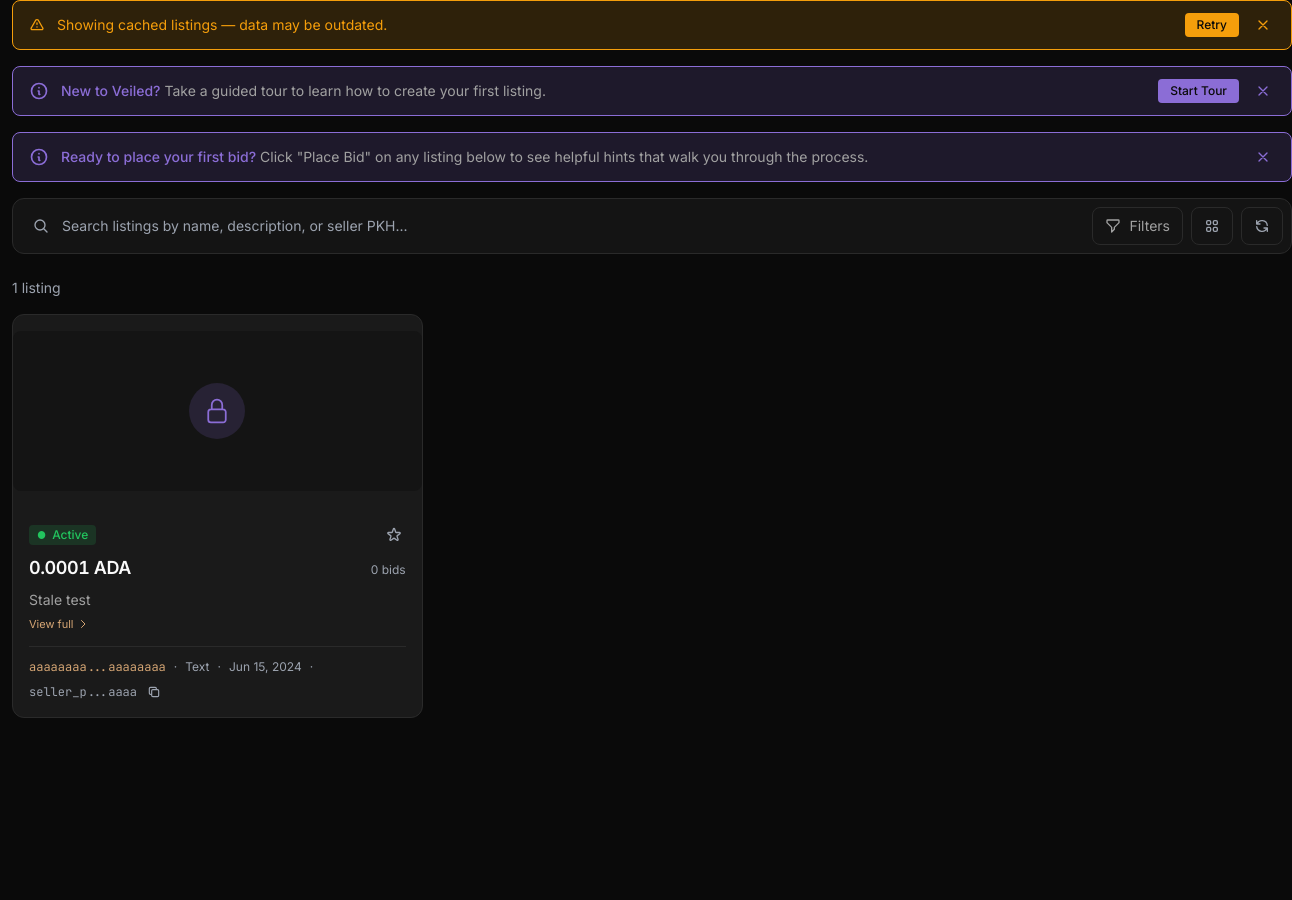
Test: MarketplaceTab › dismisses stale banner when dismiss button is clicked
This screenshot has width=1292, height=900.
Expected: the text "Showing cached listings — data may be outdated." is shown, left=57, top=15, right=387, bottom=35
Click the button named "Dismiss stale data warning". click: (1263, 25)
box: left=1251, top=13, right=1275, bottom=37
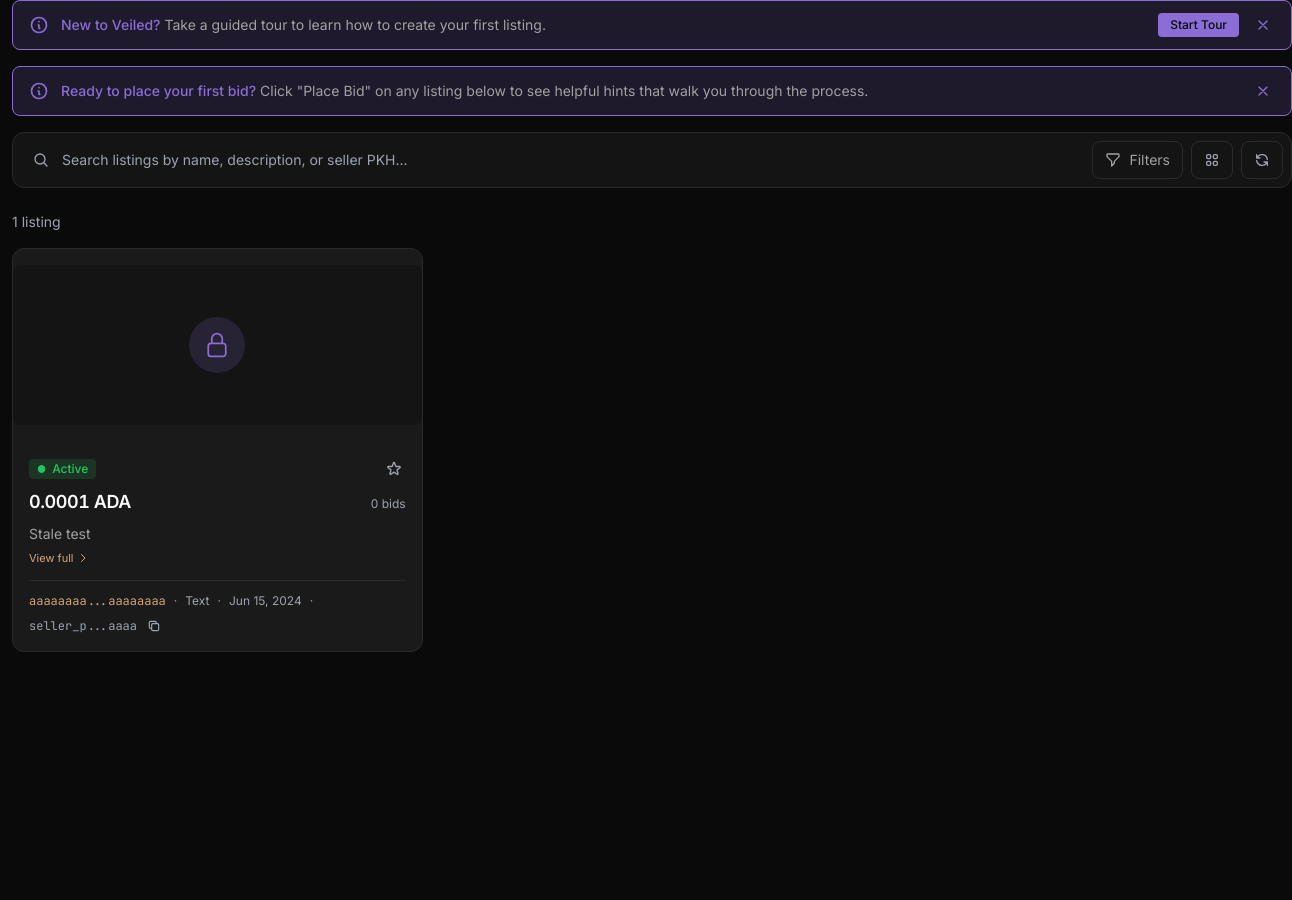
Expected: the text "Showing cached listings" is gone
